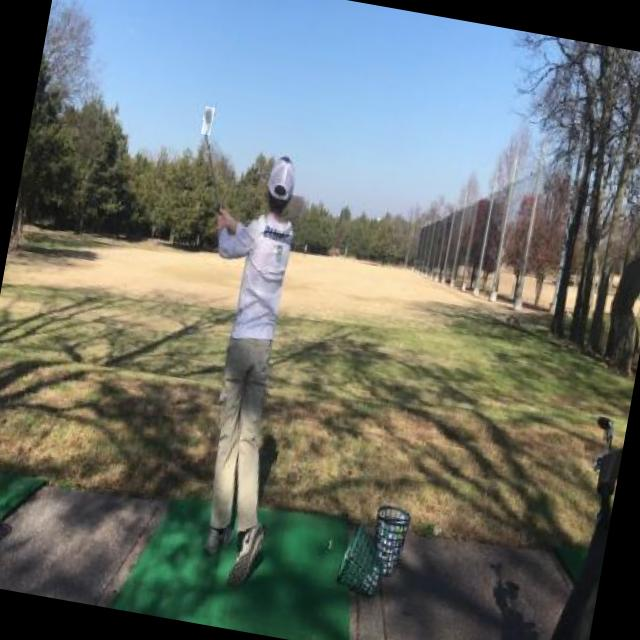club head: (200, 106, 214, 135)
